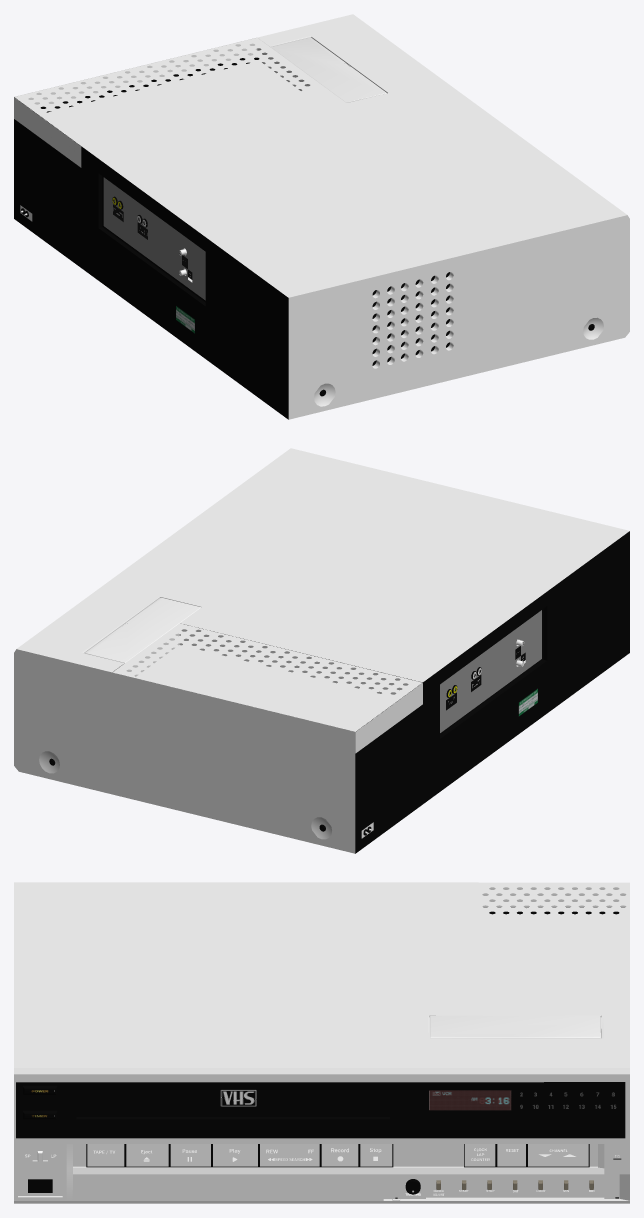
File: vhs-player.glb
3 views of the same model, one above another, from view 1: azimuth 30°, elevation 25°; view 2: azimuth 150°, elevation 25°; view 3: azimuth 270°, elevation 25° (orthographic). The views are drawn at different scales.
Visible parts, largest first — view 1: Object_8, Object_10, Object_4; view 2: Object_8, Object_10, Object_4; view 3: Object_8, Object_39, Object_10, Object_36, Object_28, Object_14, Object_35, Object_25, Object_13, Object_20, Object_15, Object_26 (+4 smaller).
Part boxes in pixels (box(x1,y1,x2,y2)): Object_8: box(14, 14, 629, 419); Object_10: box(14, 57, 594, 419); Object_4: box(103, 177, 205, 300); Object_8: box(14, 448, 629, 853); Object_10: box(49, 531, 629, 853); Object_4: box(440, 610, 541, 732); Object_8: box(14, 882, 629, 1200); Object_39: box(14, 1068, 629, 1203); Object_10: box(16, 907, 625, 1198); Object_36: box(76, 1088, 389, 1107); Object_28: box(518, 1090, 625, 1110); Object_14: box(213, 1144, 495, 1166); Object_35: box(429, 1090, 511, 1110); Object_25: box(426, 1188, 604, 1197); Object_13: box(528, 1144, 588, 1166); Object_20: box(260, 1144, 319, 1166); Object_15: box(126, 1144, 168, 1166); Object_26: box(170, 1144, 210, 1166).
Bounding box in the file's own units: 0.1158 × 0.0389 × 0.1586.
34 materials, 20 textured.
